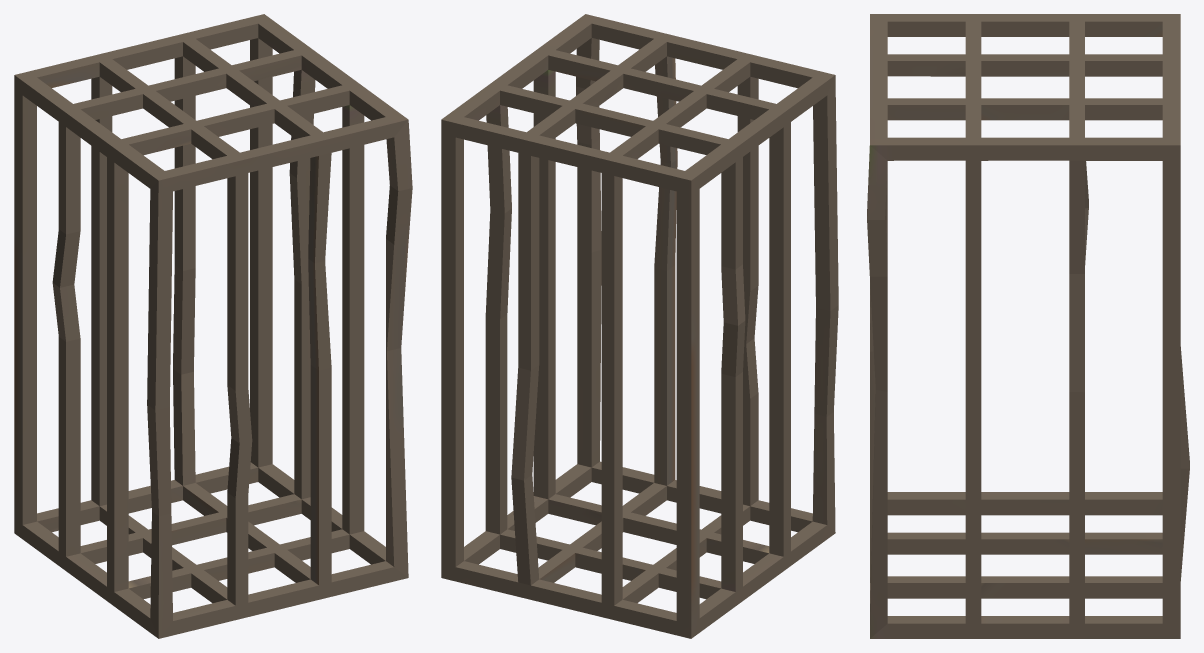
The model's file is kit-cage.glb.
The picture shows the model from 3 angles, left to right: view 1: azimuth 30°, elevation 25°; view 2: azimuth 150°, elevation 25°; view 3: azimuth 270°, elevation 25°; orthographic projection. The views are drawn at different scales.
Parts seen in each view (by area): view 1: Cube.321; view 2: Cube.321; view 3: Cube.321.
Boxes of the visible parts, x1=… form: Cube.321: x1=14, y1=14, x2=412, y2=638; Cube.321: x1=441, y1=14, x2=838, y2=638; Cube.321: x1=867, y1=14, x2=1189, y2=638.
Size of the model in its own units: 0.9863 by 1.68 by 0.9967.
1 material, 1 textured.
